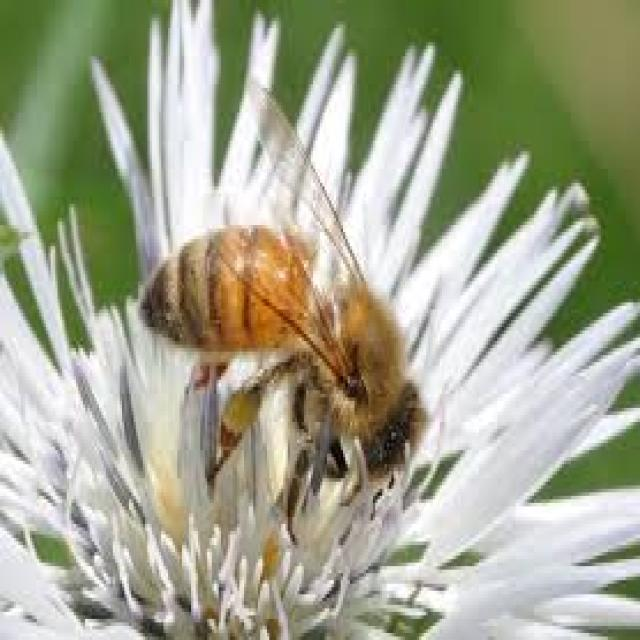Bees: (140, 86, 428, 546)
